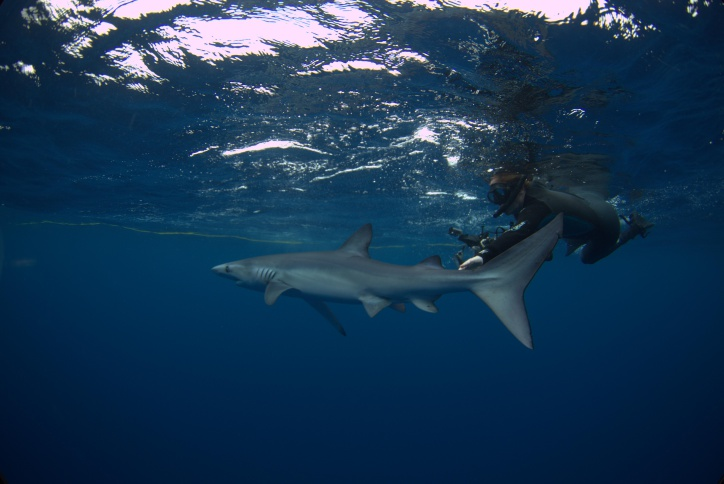Azul: (203, 210, 584, 365)
